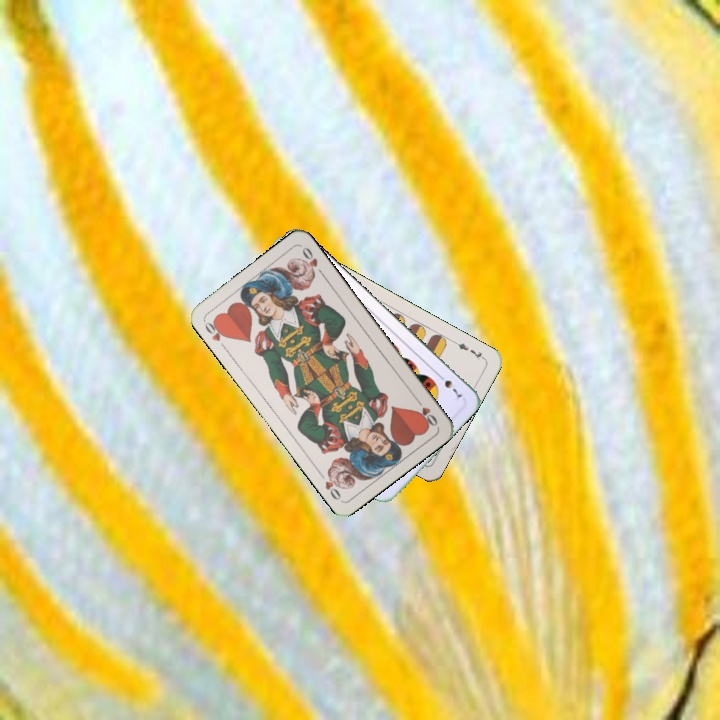E7: (450, 337, 488, 363)
HO: (200, 316, 230, 352), (411, 394, 440, 429)
S7: (433, 370, 465, 400)
